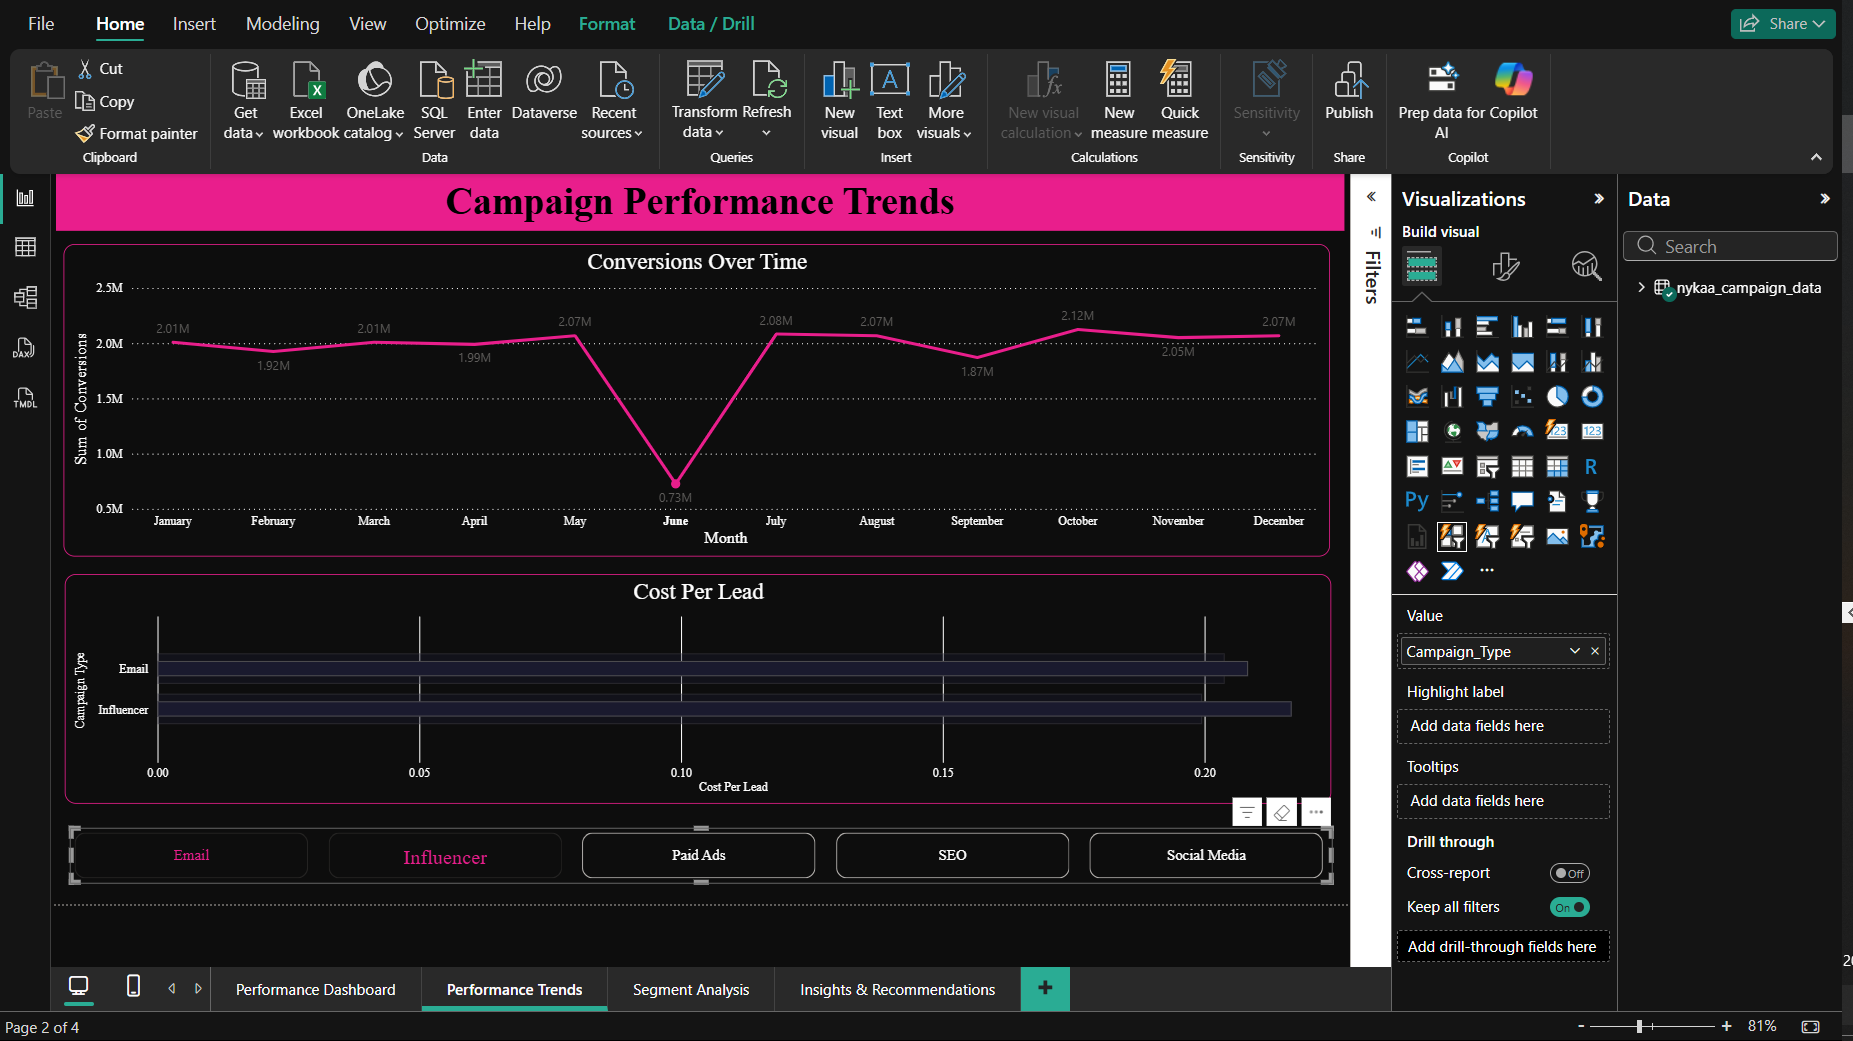

This screenshot's page, from the dashboard's own definition file:
{"tool":"powerbi","page":{"name":"Performance Trends","canvas":[1280,720],"ordinal":1},"visuals":[{"type":"lineChart","title":"Conversions Over Time","fields":{"Y":["Sum(nykaa_campaign_data.Conversions)"],"Category":["nykaa_campaign_data.Date.Variation.Date Hierarchy.Month"]},"box":[12.3,69,1247.7,307.9],"z":0},{"type":"textbox","box":[5.3,0,1269.4,55.8],"z":1000},{"type":"clusteredBarChart","title":"Cost Per Lead","fields":{"Category":["nykaa_campaign_data.Campaign_Type"],"Y":["nykaa_campaign_data.Cost Per Lead"]},"box":[13.5,394.2,1247.7,226.6],"z":2000},{"type":"advancedSlicerVisual","title":"Campaign Type","fields":{"Values":["nykaa_campaign_data.Campaign_Type"]},"box":[18.5,644.2,1244,55.4],"z":3000}]}

Visuals, with their boxes on the page's 1280x720 design canvas (x1, y1, x2, y2). These are canvas units, not pixel positions in the 1853x1041 screenshot, which may show the page scaled, cropped or inside an application window:
"Conversions Over Time" lineChart: 12:69:1260:377
textbox: 5:0:1275:56
"Cost Per Lead" clusteredBarChart: 14:394:1261:621
"Campaign Type" advancedSlicerVisual: 18:644:1262:700
